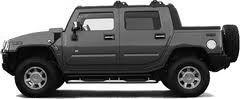car: (1, 1, 240, 99)
